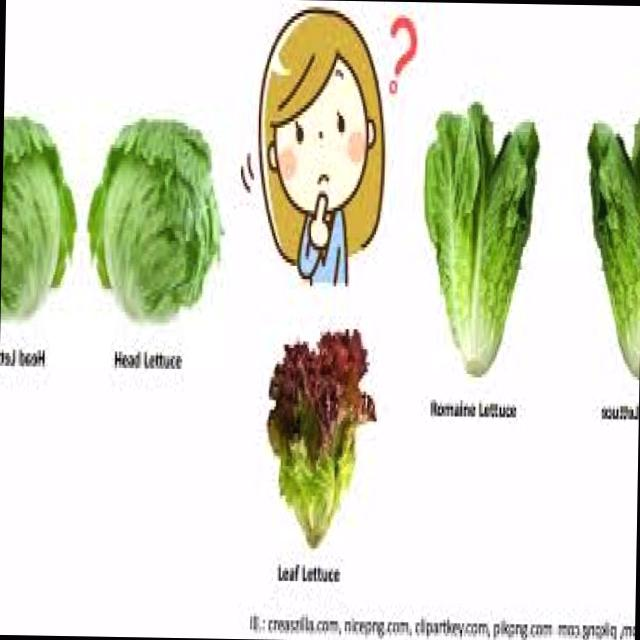healthy: (415, 98, 538, 380), (84, 112, 227, 334), (0, 110, 78, 330), (585, 101, 640, 382)
